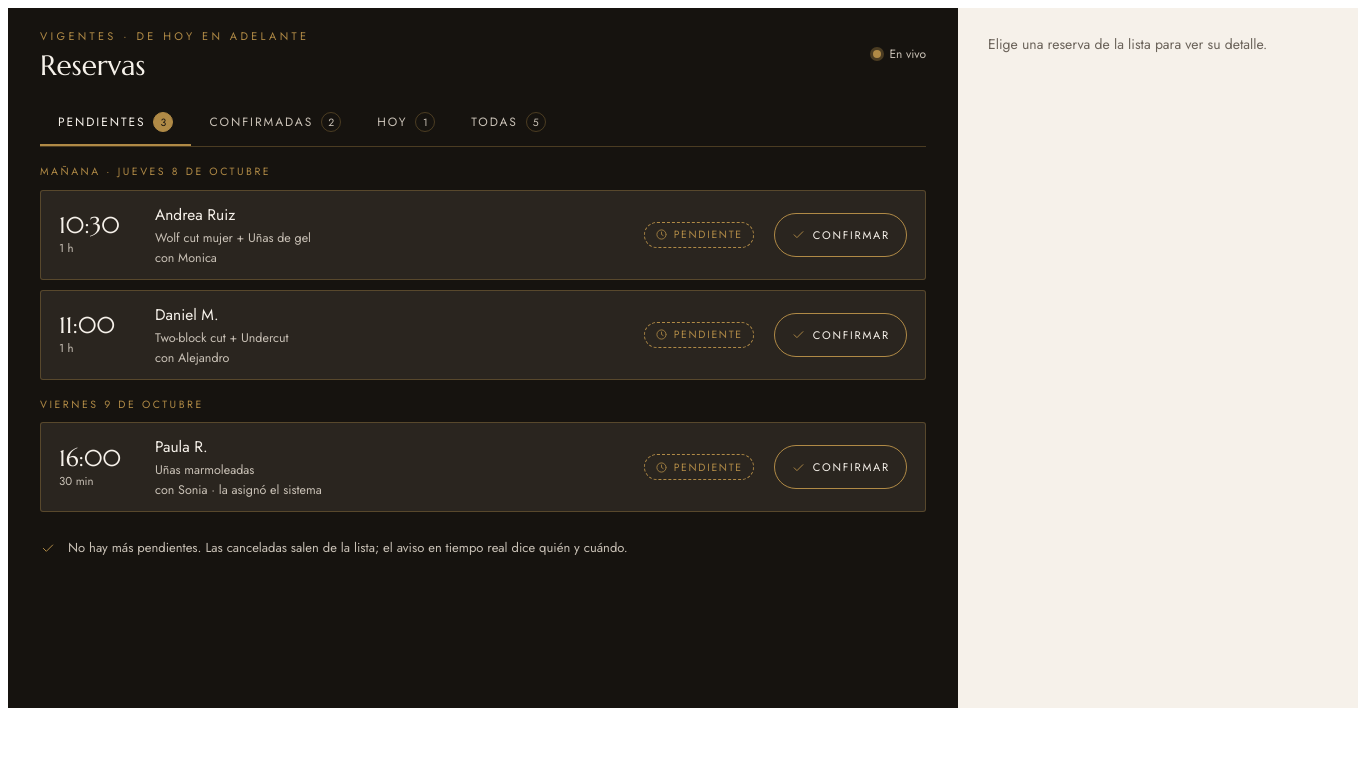
Test case: la bandeja · lista (A1–A2) › «Hoy» deja solo las de hoy
The width and height of the screenshot is (1366, 768).
Click the tab with test id "pestana-hoy". click: [406, 123]
box: [359,100,453,146]
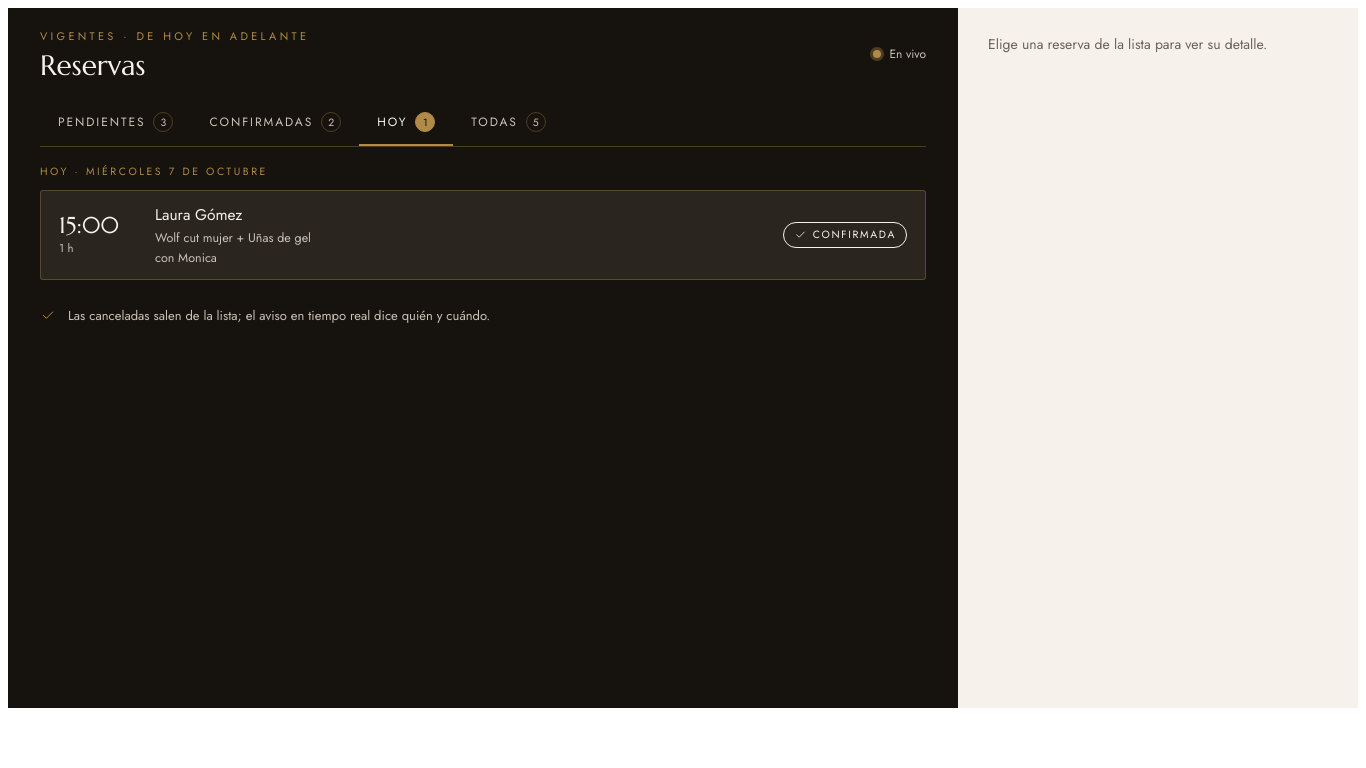
Result: the elements with test id "titulo-dia" read "Hoy · miércoles 7 de octubre", in this order at [40,164,268,179]
